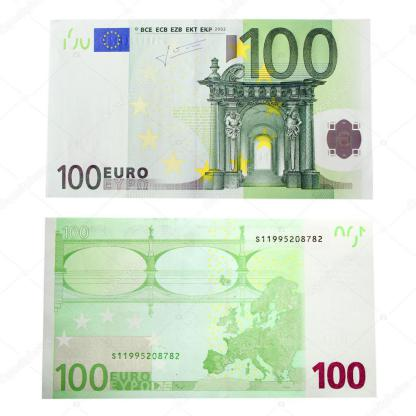euro_banknote: (42, 218, 378, 399), (48, 18, 375, 198)
